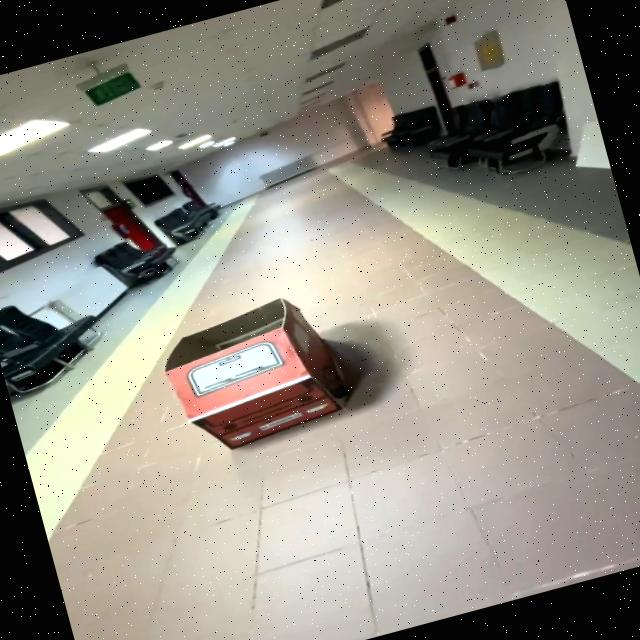red_car: (130, 273, 385, 476)
